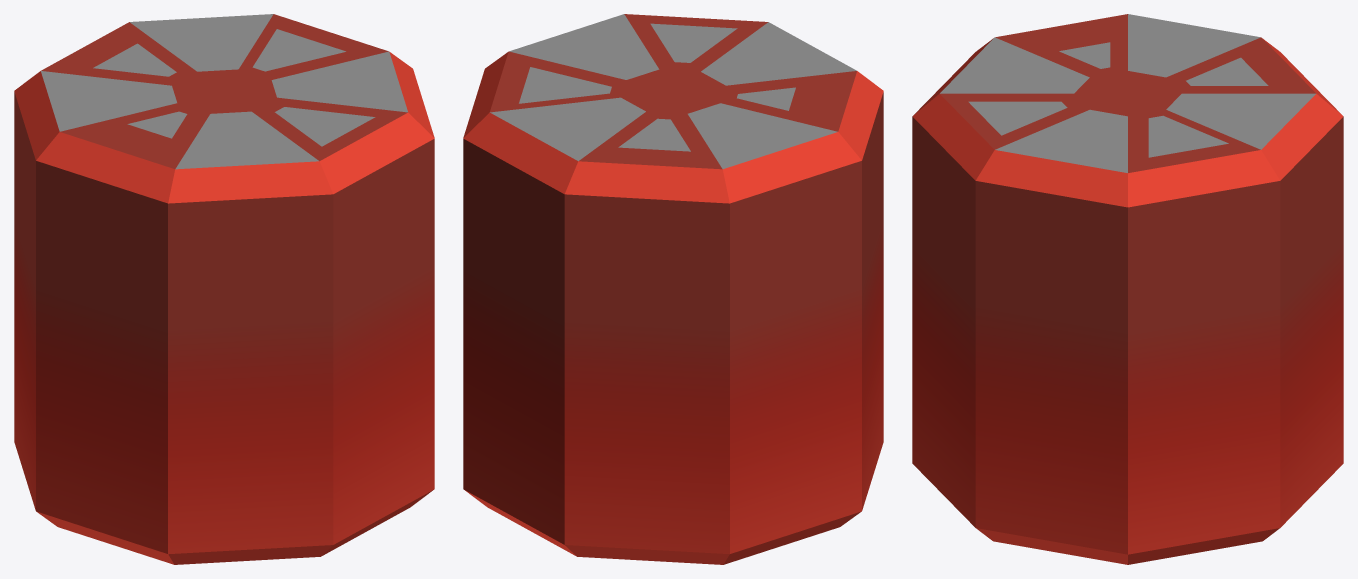
Rendered from Red_mushroom._farm.fbx.
3 renders of one model, left to right at view 1: azimuth 30°, elevation 25°; view 2: azimuth 150°, elevation 25°; view 3: azimuth 270°, elevation 25°, orthographic.
Parts seen in each view (by area): view 1: mushroom_farm.001; view 2: mushroom_farm.001; view 3: mushroom_farm.001.
Boxes of the visible parts, x1,y1,x2,y2 form: mushroom_farm.001: [14, 14, 434, 564]; mushroom_farm.001: [463, 14, 883, 564]; mushroom_farm.001: [912, 14, 1343, 564].
Bounding box in the file's own units: 0.6729 × 0.6729 × 0.6734.
